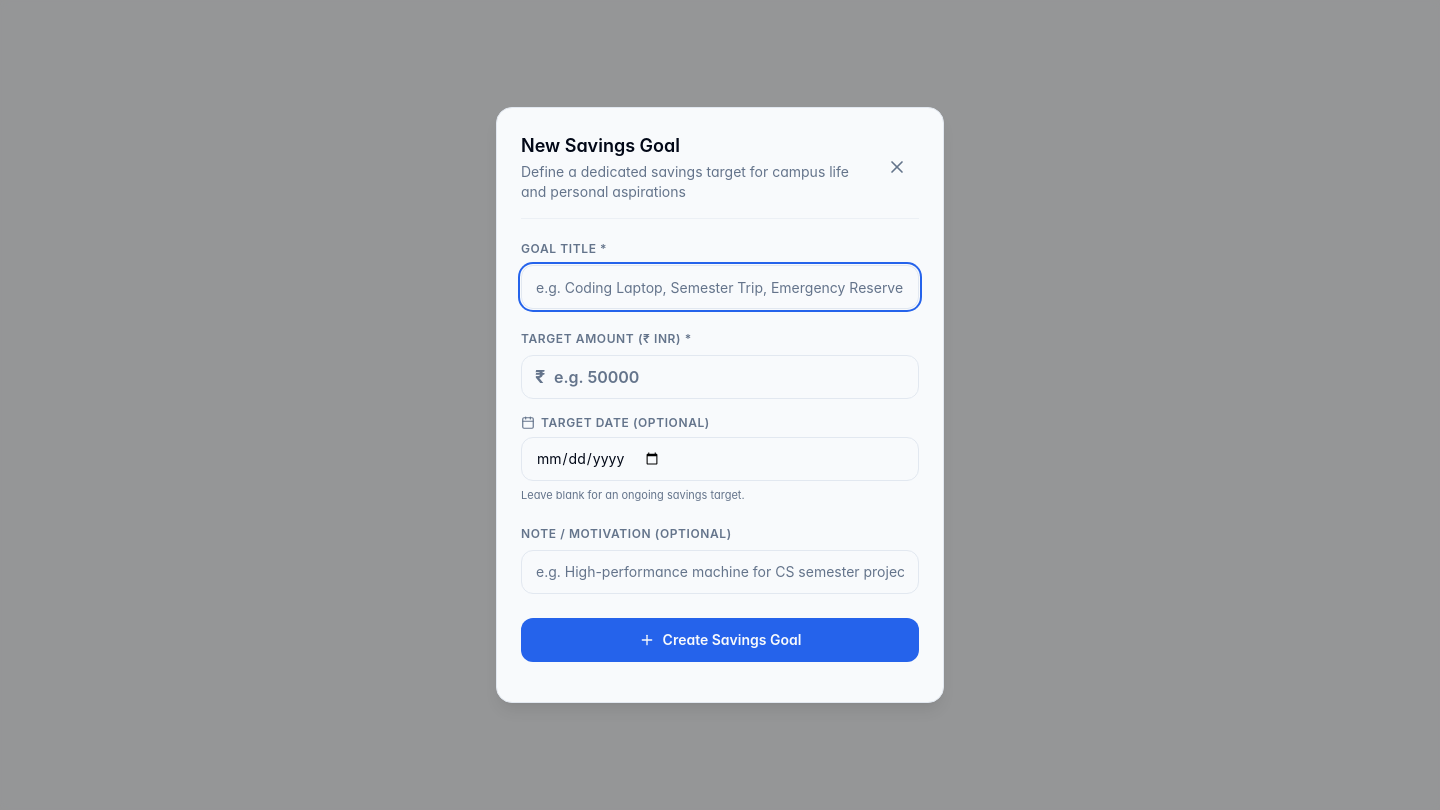
Scenario: Phase 5: Financial Goals & Savings Targets › GoalFormSheet › validates target amount must be positive
Type "Valid Name" into the field labelled "Goal Title *" at (720, 287), box [521,265,919,309]
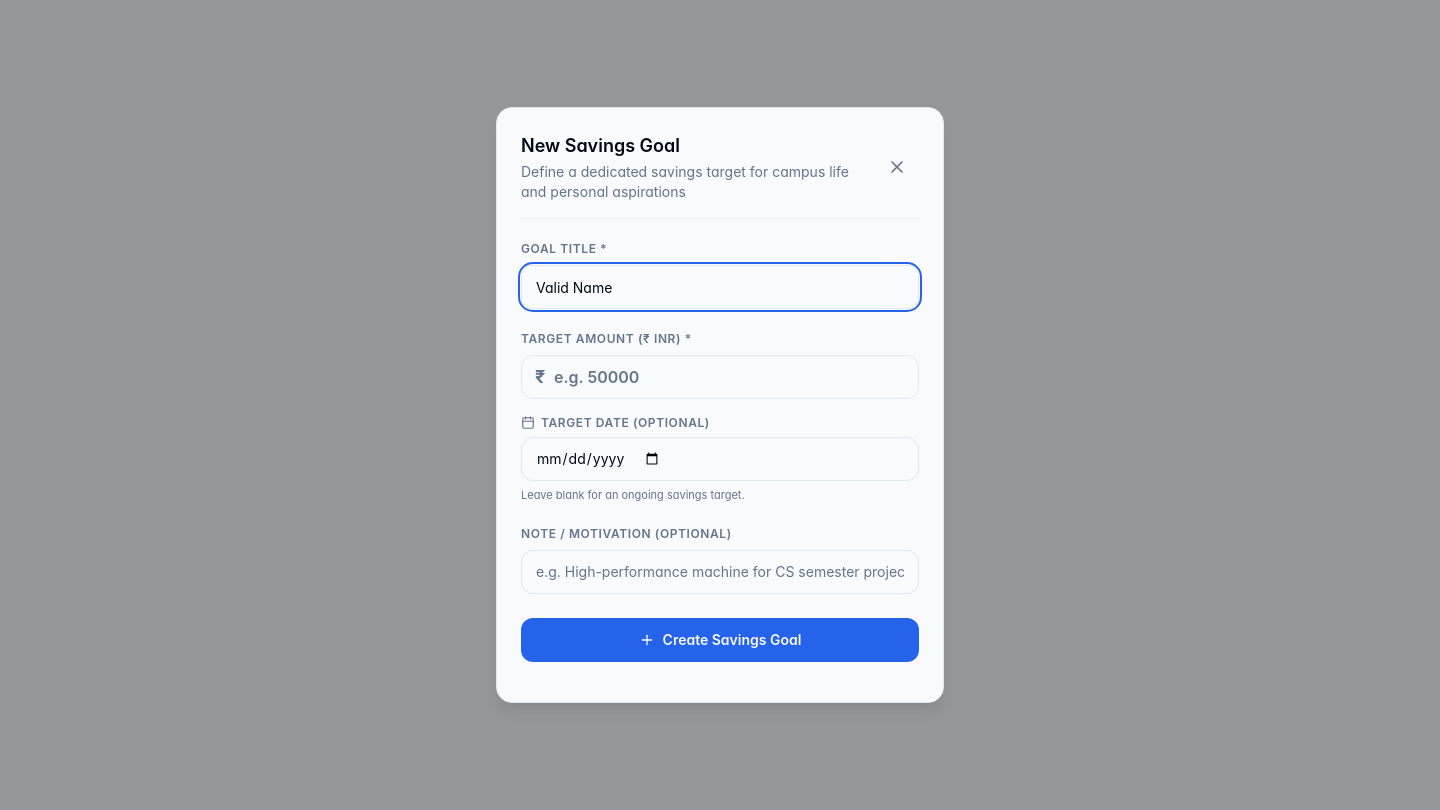
Type "0" into the number field labelled "Target Amount (₹ INR) *" at (720, 377), box [521,355,919,399]
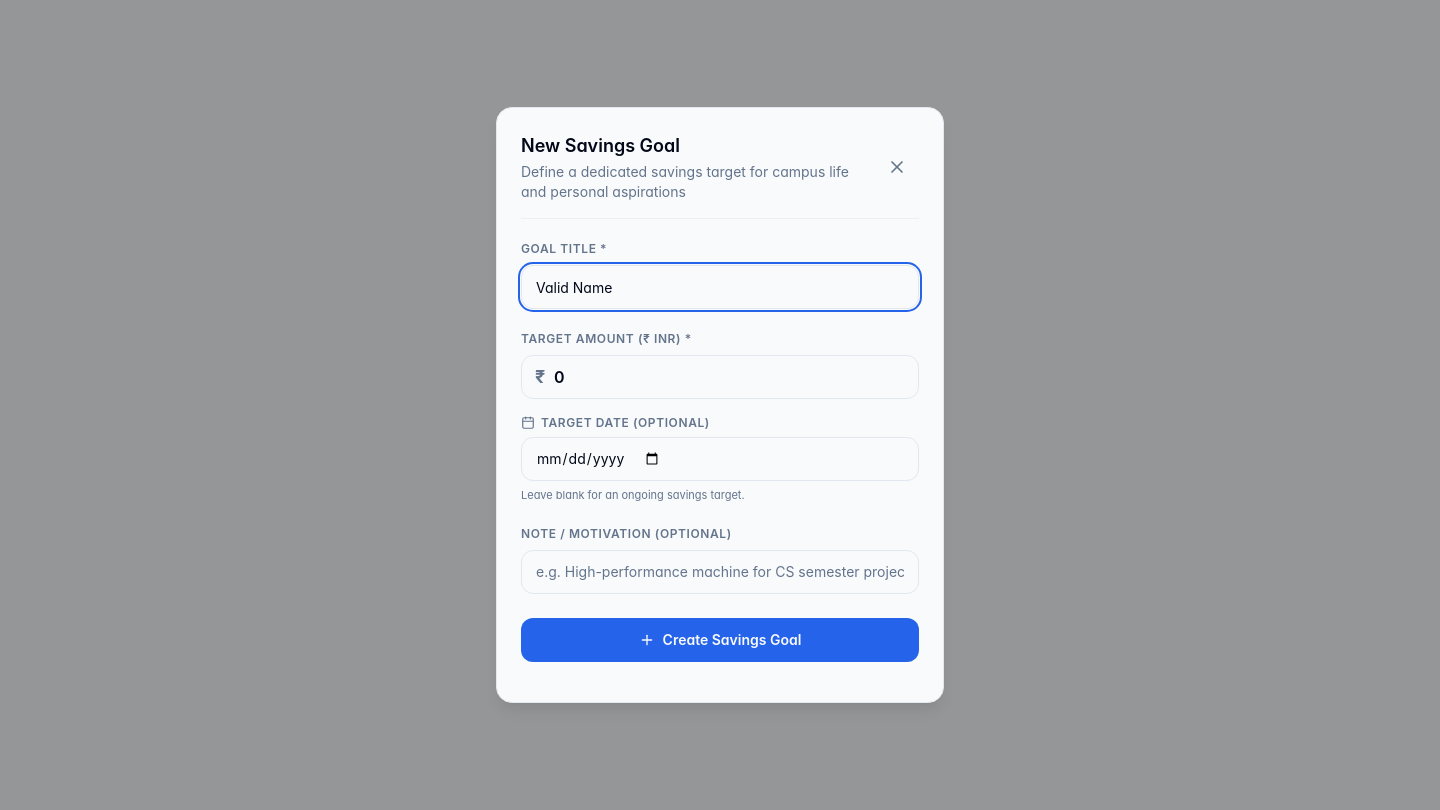
Submit the form labelled "Target Amount", box [521,235,919,662]
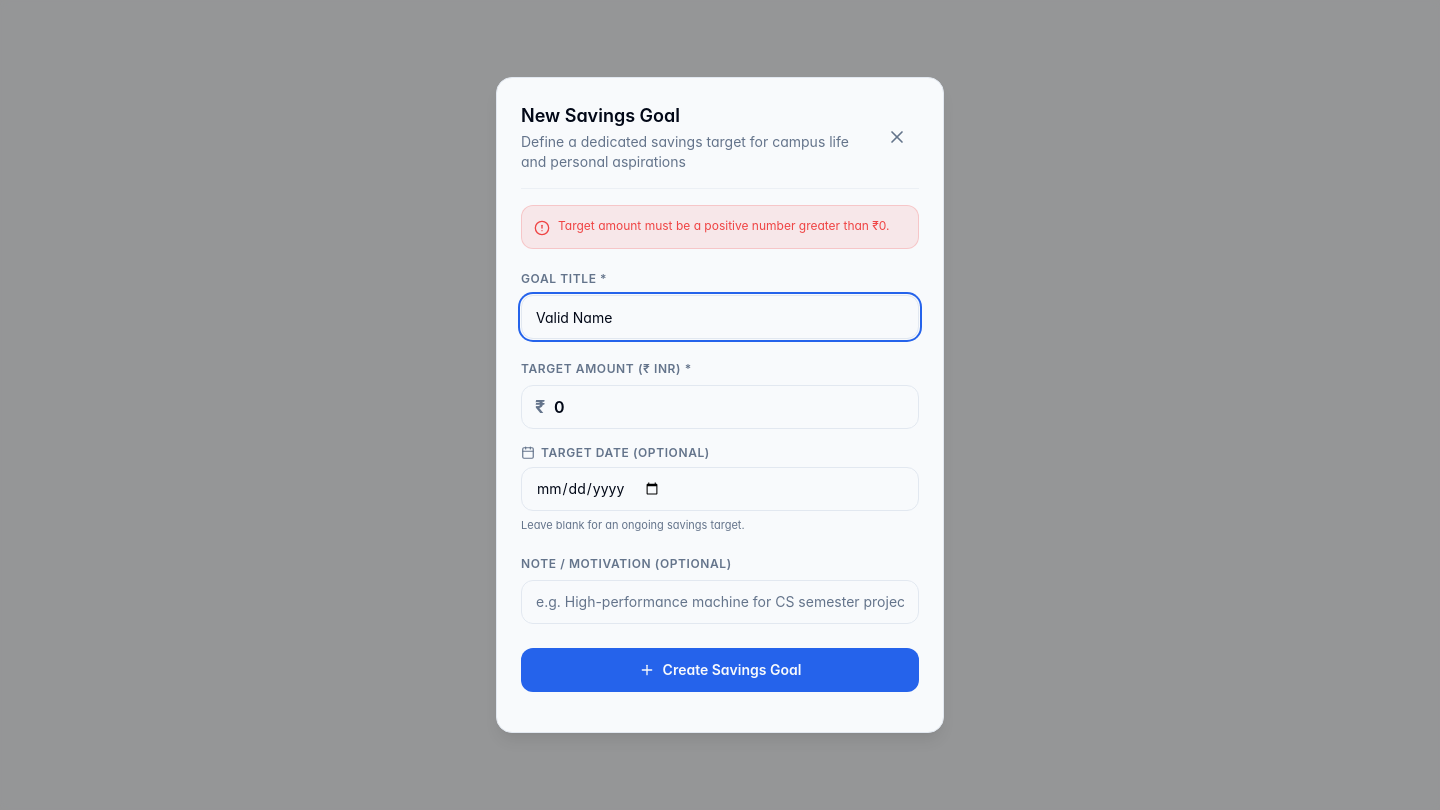
Check: the text "Target amount must be a positive number greater than ₹0." is shown, box [558,218,890,235]
